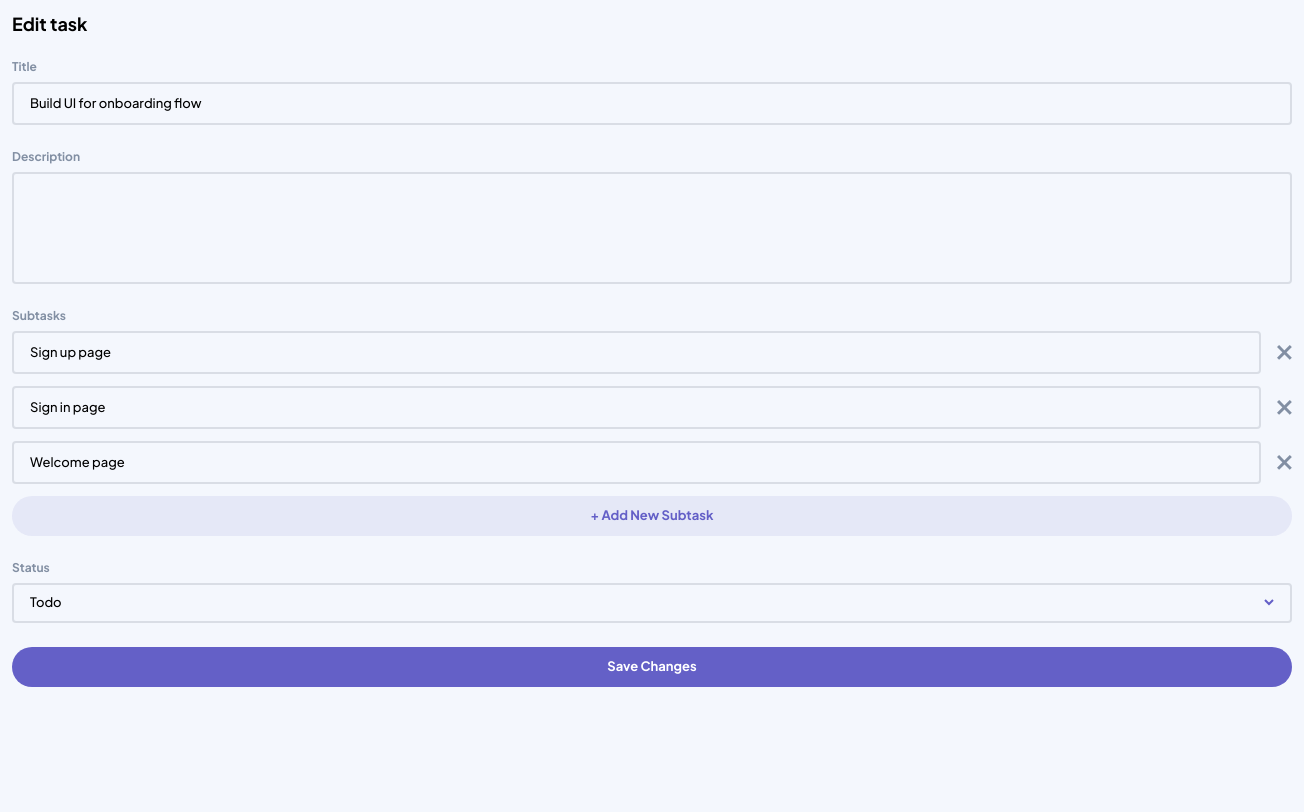
it: Given an <EditTaskForm /> component › When we click the status select › It should expand a dropdown with the columns
expect the button "Doing" is not shown: met
expect the button "Done" is not shown: met
What coordinates should you click on to do the following:
click the element named "status: Todo"
I would click on:
 (652, 603)
Its box is x1=12 y1=583 x2=1292 y2=622.
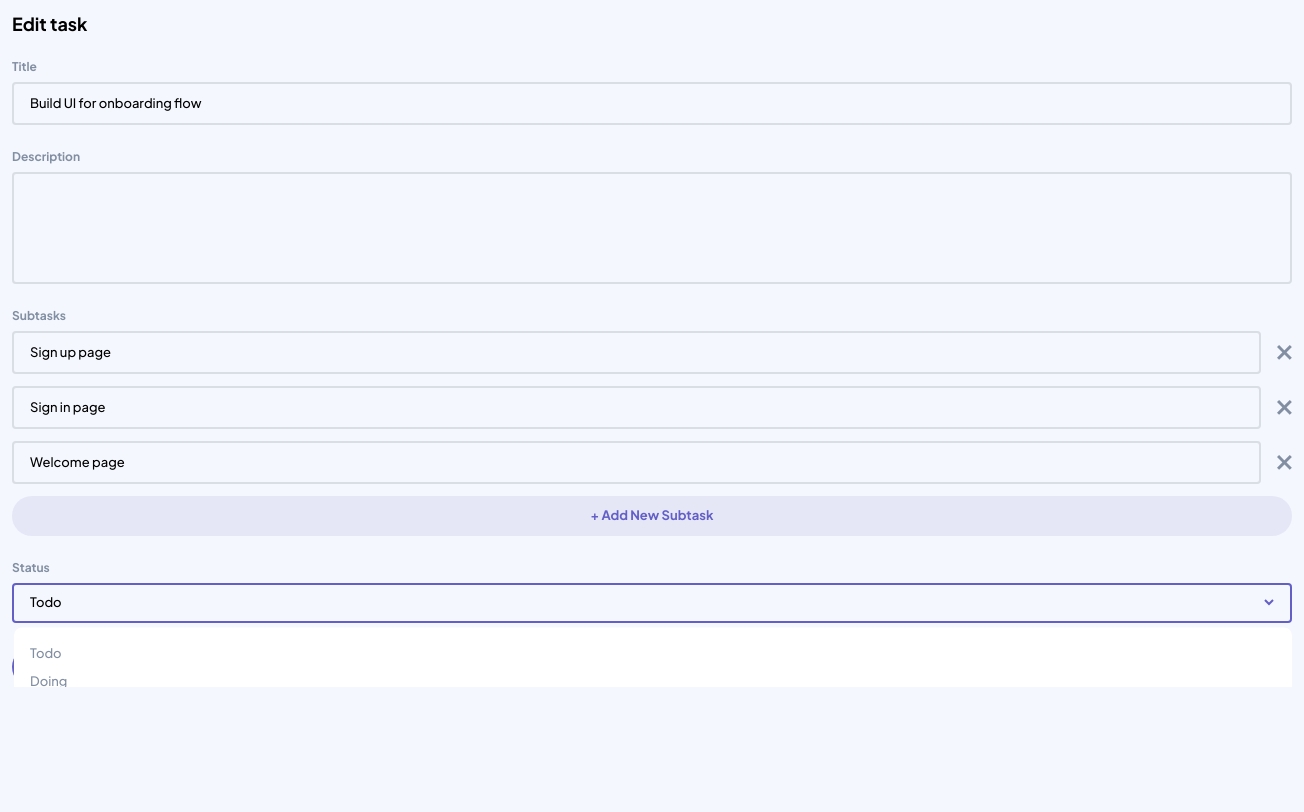
expect the button "Todo" is shown: met, box x1=30 y1=644 x2=1276 y2=663
expect the button "Doing" is shown: met, box x1=30 y1=671 x2=1276 y2=686
